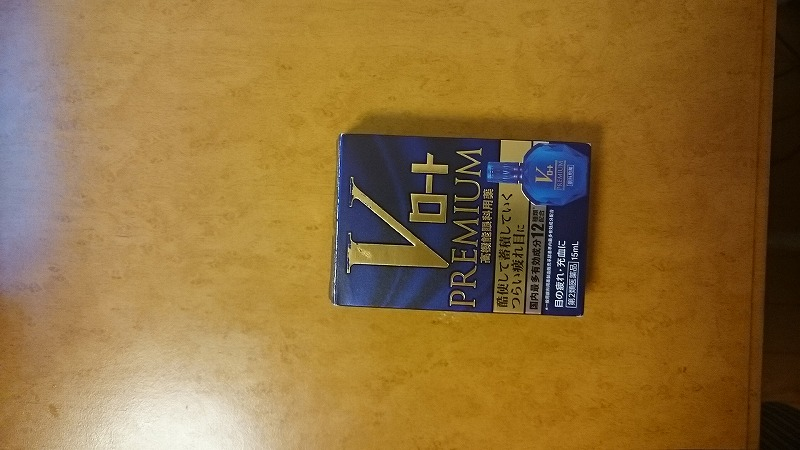D: (327, 126, 590, 326)
